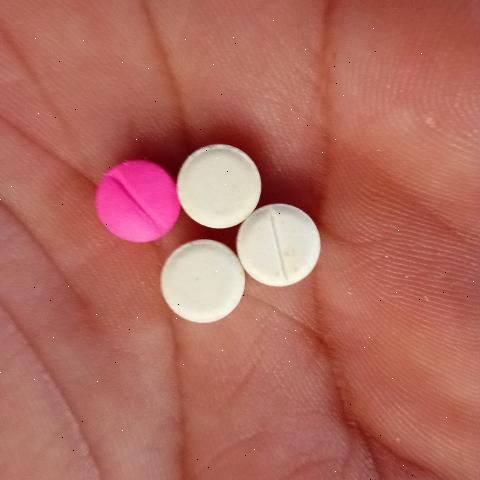Pill: (146, 238, 257, 354), (234, 197, 329, 305), (181, 135, 274, 233)
